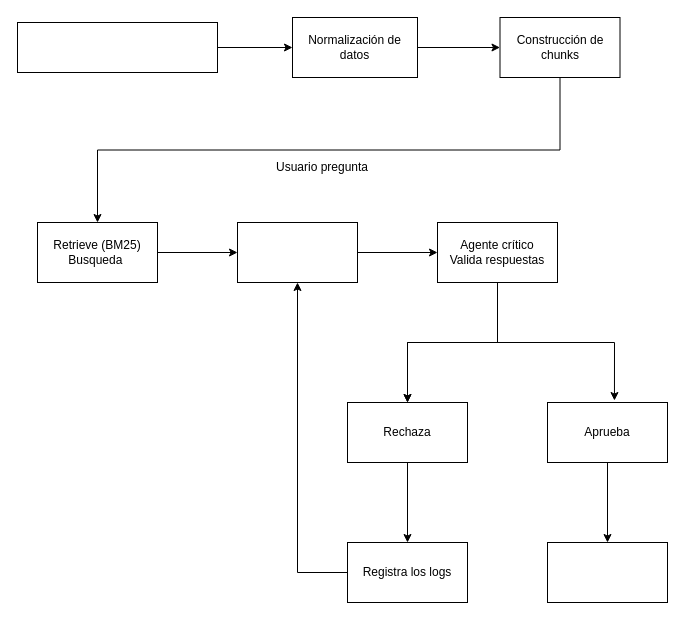
Image size: 685x620. Some labels were removed from this diagram. The centre of each missing label's shape, as x and y in pixels:
Generate Respuesta preliminar con los top-k: (297,252)
Ingesta del sataset Laptops_with_technical_specifications.csv: (117,47)
Respuesta final al usuario: (607,572)
